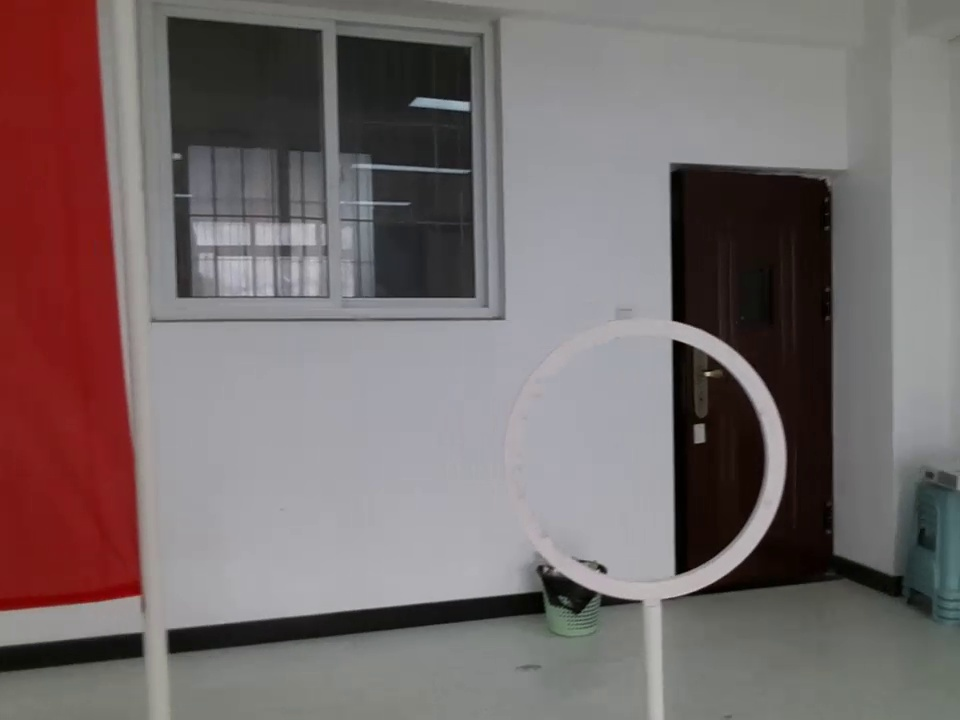qi: (1, 1, 166, 616)
quan: (495, 308, 789, 655)
